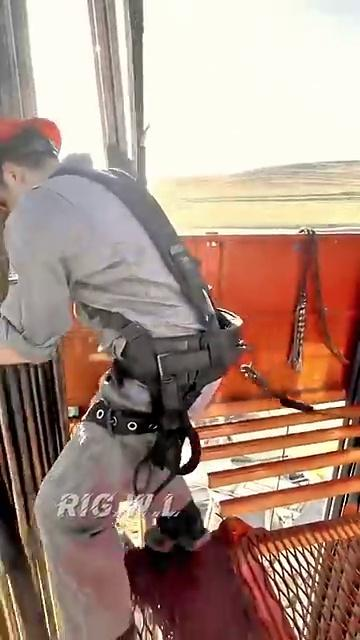helmet: (0, 96, 111, 194)
shoes: (137, 480, 242, 568)
worker: (0, 68, 245, 640)
